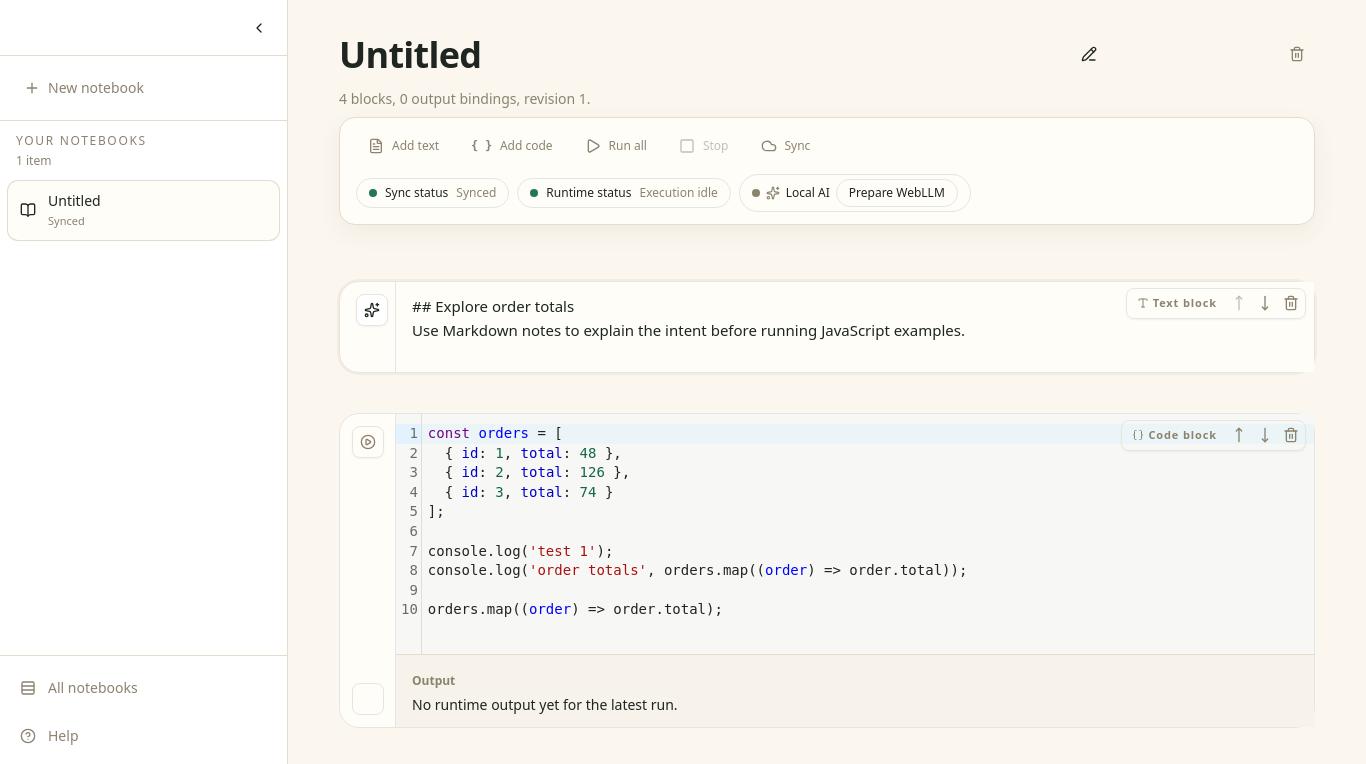
Scenario: NotebookEditorPage › offers local retry after a retryable backend provider failure
The image size is (1366, 764).
Click the button "Prepare WebLLM". click: x=897, y=193
box: [836,179,958,207]
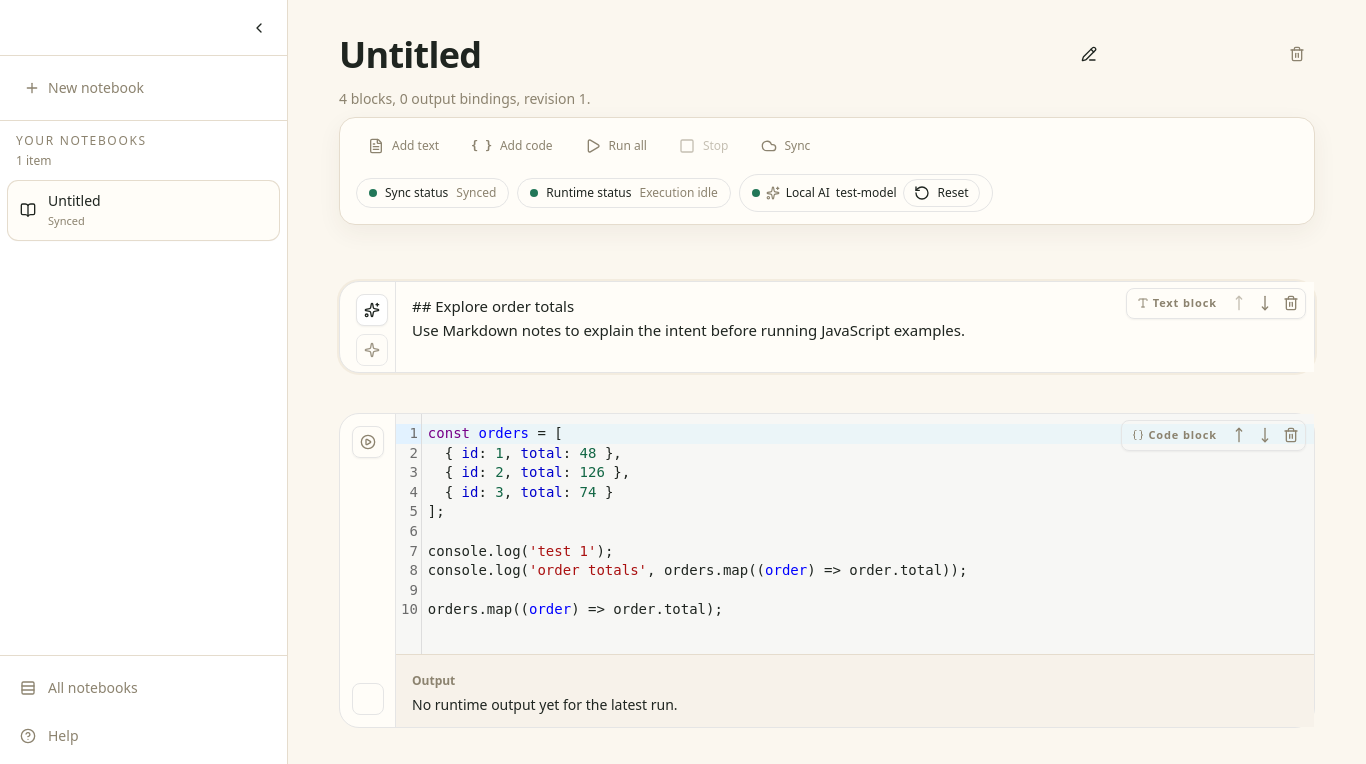
Expected: the text "test-model" is shown, [836,185,897,201]
Expected: the element named "Local AI status" shows "test-model", [836,184,897,201]
Click the button named "Generate code from blk_intro". click: x=372, y=310
box: [356,294,388,326]
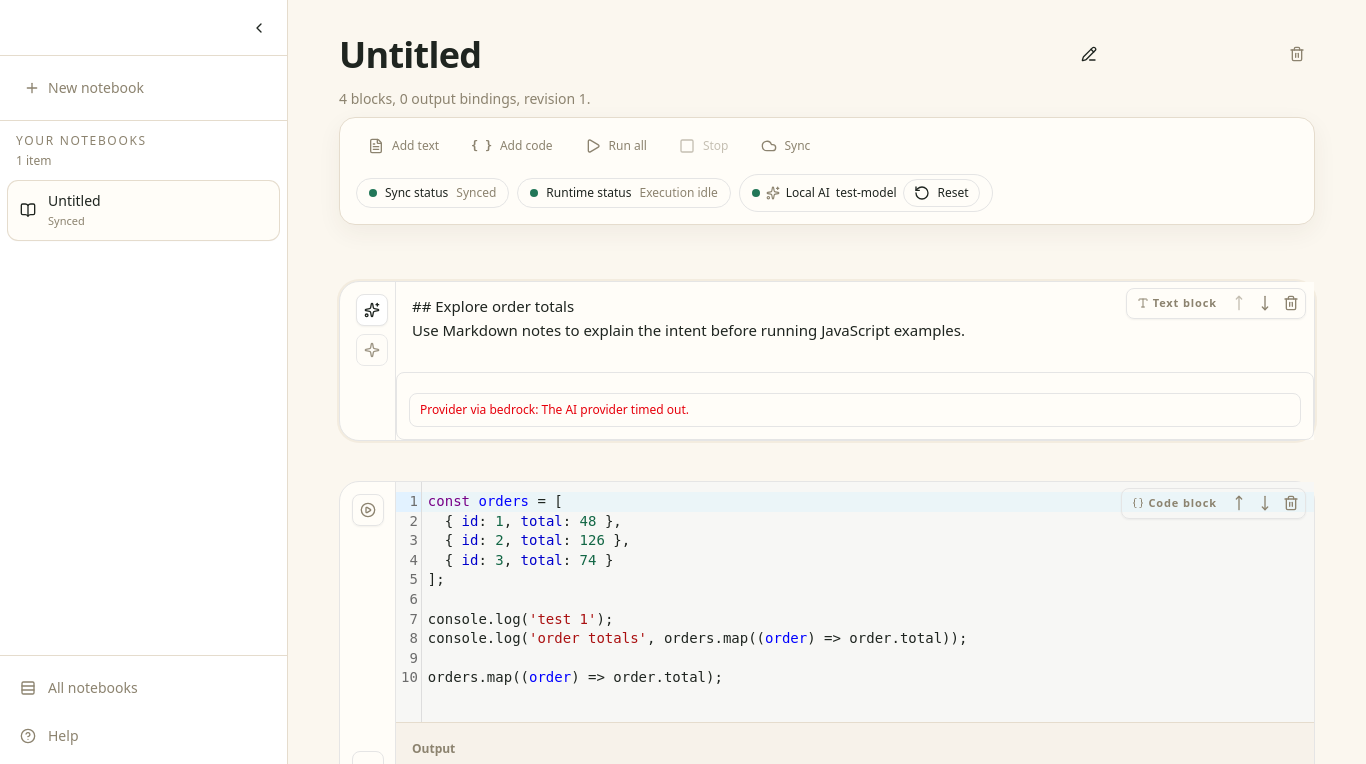
Expected: the message reads "Provider via bedrock: The AI provider timed out.", [420,401,689,418]
Click the button named "Generate code locally from blk_intro". click: x=372, y=350
box: [356,334,388,366]
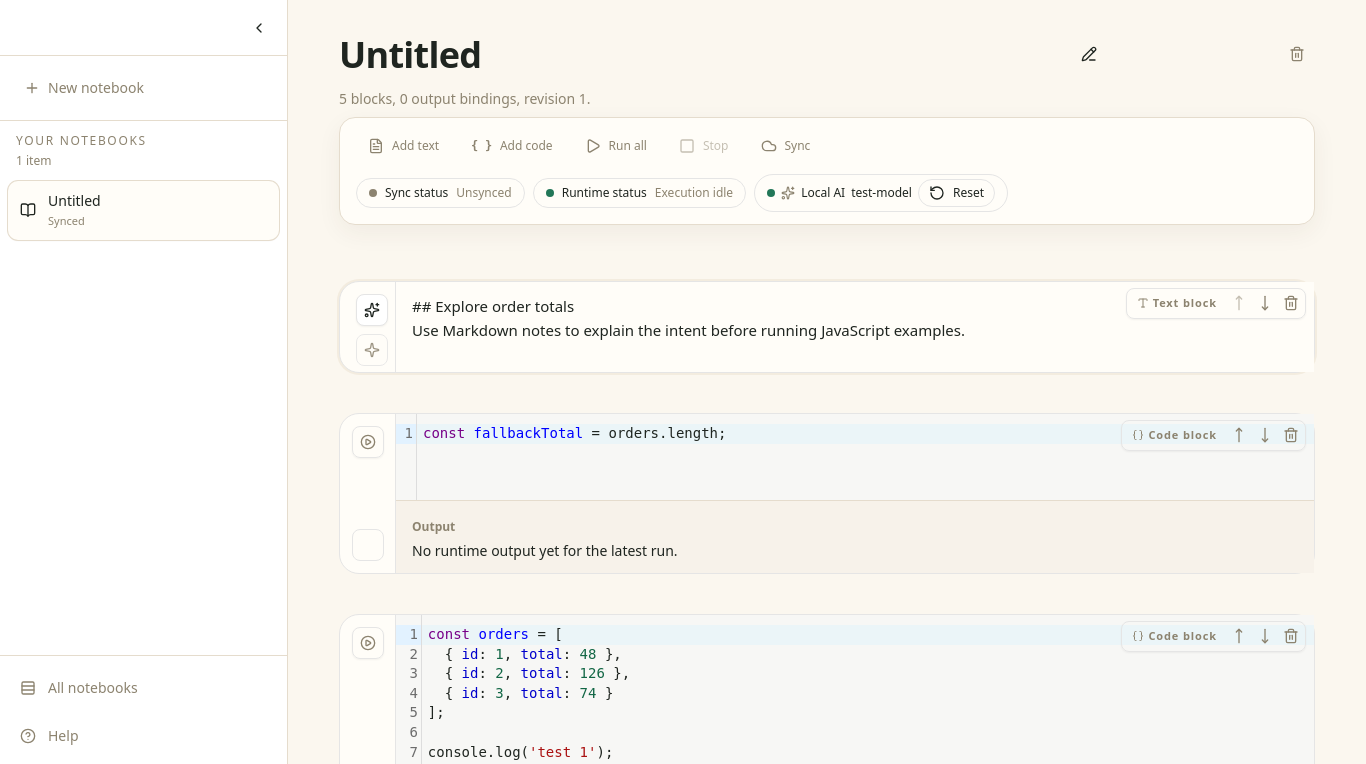
Expected: the element named "Run blk_new_code_1" is shown, [339,413,1315,574]
Expected: the field labelled "const fallbackTotal = orders.length;" is shown, [417,424,1314,444]
